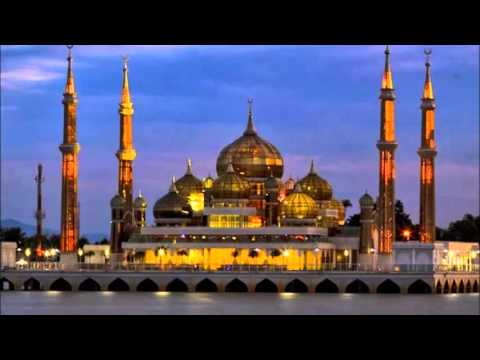Mosque: (5, 46, 449, 281)
